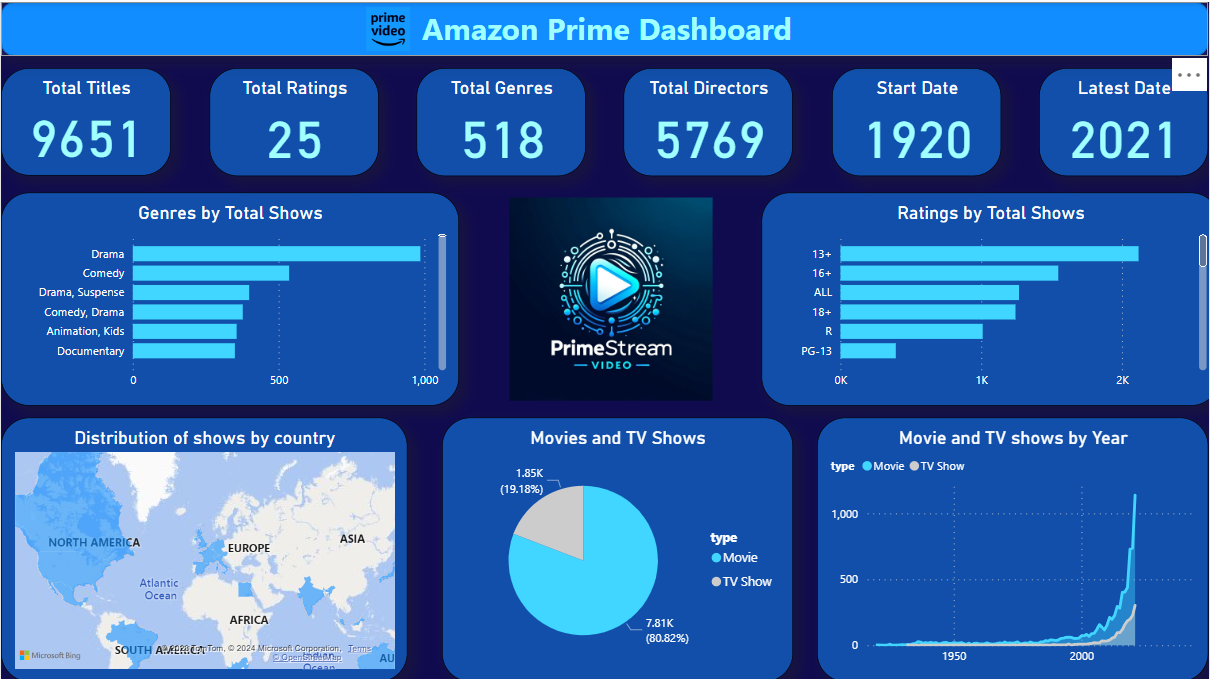

The page's visual inventory and layout, read from the dashboard file:
{"tool":"powerbi","page":{"name":"Page 1","canvas":[1280,720],"ordinal":0},"visuals":[{"type":"card","title":"Total Titles","fields":{"Values":["Count(amazon_prime_titles.title)"]},"box":[0,69.9,180,114],"z":0},{"type":"card","title":"Total Ratings","fields":{"Values":["Count(amazon_prime_titles.rating)"]},"box":[220.3,69.9,179.6,114.4],"z":1000},{"type":"card","title":"Total Genres","fields":{"Values":["Count(amazon_prime_titles.listed_in)"]},"box":[440.2,69.9,179.6,114.4],"z":2000},{"type":"card","title":"Total Directors","fields":{"Values":["Count(amazon_prime_titles.director)"]},"box":[660.1,69.9,179.6,114.4],"z":3000},{"type":"card","title":"Start Date","fields":{"Values":["Min(amazon_prime_titles.release_year)"]},"box":[880,69.9,179.6,114.4],"z":4000},{"type":"card","title":"Latest Date","fields":{"Values":["Max(amazon_prime_titles.release_year)"]},"box":[1099.9,69.9,179.6,114.4],"z":5000},{"type":"barChart","title":"Genres by Total Shows","fields":{"Category":["amazon_prime_titles.listed_in"],"Y":["CountNonNull(amazon_prime_titles.show_id)"]},"box":[0,201.9,485,225.7],"z":6000},{"type":"barChart","title":"Ratings by Total Shows","fields":{"Y":["CountNonNull(amazon_prime_titles.show_id)"],"Category":["amazon_prime_titles.rating"]},"box":[805.8,201.9,485,225.7],"z":7000},{"type":"filledMap","title":"Distribution of shows by country","fields":{"Category":["amazon_prime_titles.country"]},"box":[0,440.3,430.7,279.7],"z":8000},{"type":"pieChart","title":"Movies and TV Shows","fields":{"Category":["amazon_prime_titles.type"],"Y":["CountNonNull(amazon_prime_titles.show_id)"]},"box":[467.3,440.3,371.9,279.7],"z":9000},{"type":"areaChart","title":"Movie and TV shows by Year","fields":{"Category":["amazon_prime_titles.release_year"],"Y":["CountNonNull(amazon_prime_titles.show_id)"],"Series":["amazon_prime_titles.type"]},"box":[864.6,440.3,414.8,279.7],"z":10000},{"type":"shape","box":[0,0,1279.5,57.2],"z":11000},{"type":"image","box":[373.5,0,73.1,57.2],"z":12000},{"type":"textbox","box":[413.2,0,457.7,57.2],"z":13000},{"type":"image","box":[500.7,201.9,290.9,225.7],"z":14000}]}

Visuals, with their boxes in screenshot pixels (x1, y1, x2, y2), scaled from the page's 1280x720 canvas onto the 1210x679 screenshot:
"Total Titles" card: rect(0, 66, 170, 173)
"Total Ratings" card: rect(208, 66, 378, 174)
"Total Genres" card: rect(416, 66, 586, 174)
"Total Directors" card: rect(624, 66, 794, 174)
"Start Date" card: rect(832, 66, 1002, 174)
"Latest Date" card: rect(1040, 66, 1209, 174)
"Genres by Total Shows" barChart: rect(0, 190, 458, 403)
"Ratings by Total Shows" barChart: rect(762, 190, 1209, 403)
"Distribution of shows by country" filledMap: rect(0, 415, 407, 678)
"Movies and TV Shows" pieChart: rect(442, 415, 793, 678)
"Movie and TV shows by Year" areaChart: rect(817, 415, 1209, 678)
shape: rect(0, 0, 1209, 54)
image: rect(353, 0, 422, 54)
textbox: rect(391, 0, 823, 54)
image: rect(473, 190, 748, 403)
